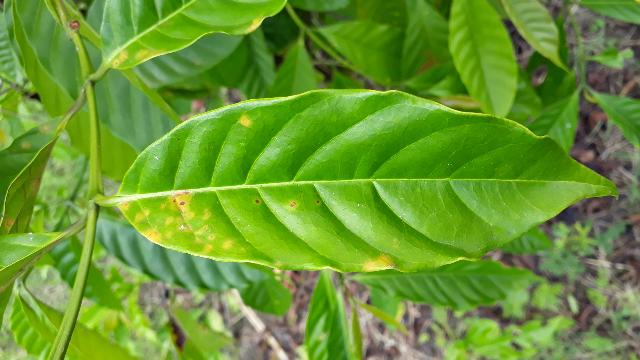rust_level_1: (118, 90, 620, 275)
